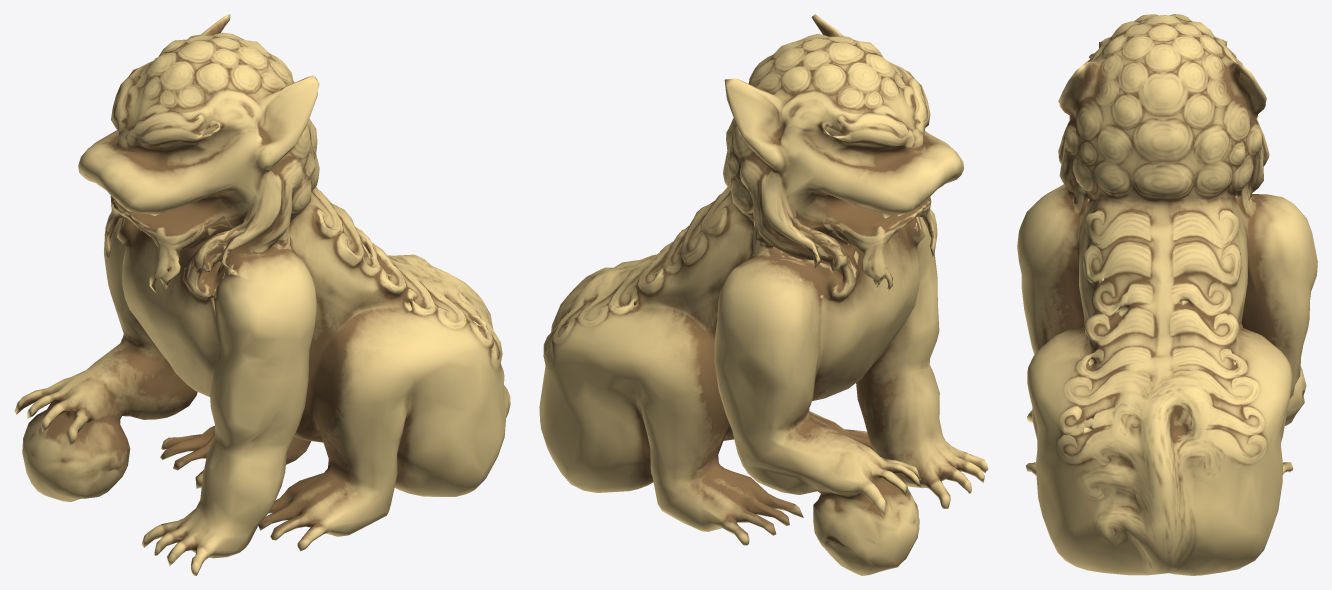
File: SM_Lion.fbx
3 renders of one model, left to right at view 1: azimuth 30°, elevation 25°; view 2: azimuth 150°, elevation 25°; view 3: azimuth 270°, elevation 25°, orthographic. The views are drawn at different scales.
Visible parts, largest first — view 1: SM_Lion; view 2: SM_Lion; view 3: SM_Lion.
Boxes of the visible parts, bbox=[...] form: SM_Lion: bbox=[14, 14, 510, 575]; SM_Lion: bbox=[539, 14, 988, 575]; SM_Lion: bbox=[1017, 14, 1317, 575].
Bounding box in the file's own units: 116 × 76.02 × 126.
Materials: 1 (1 with a texture image).
